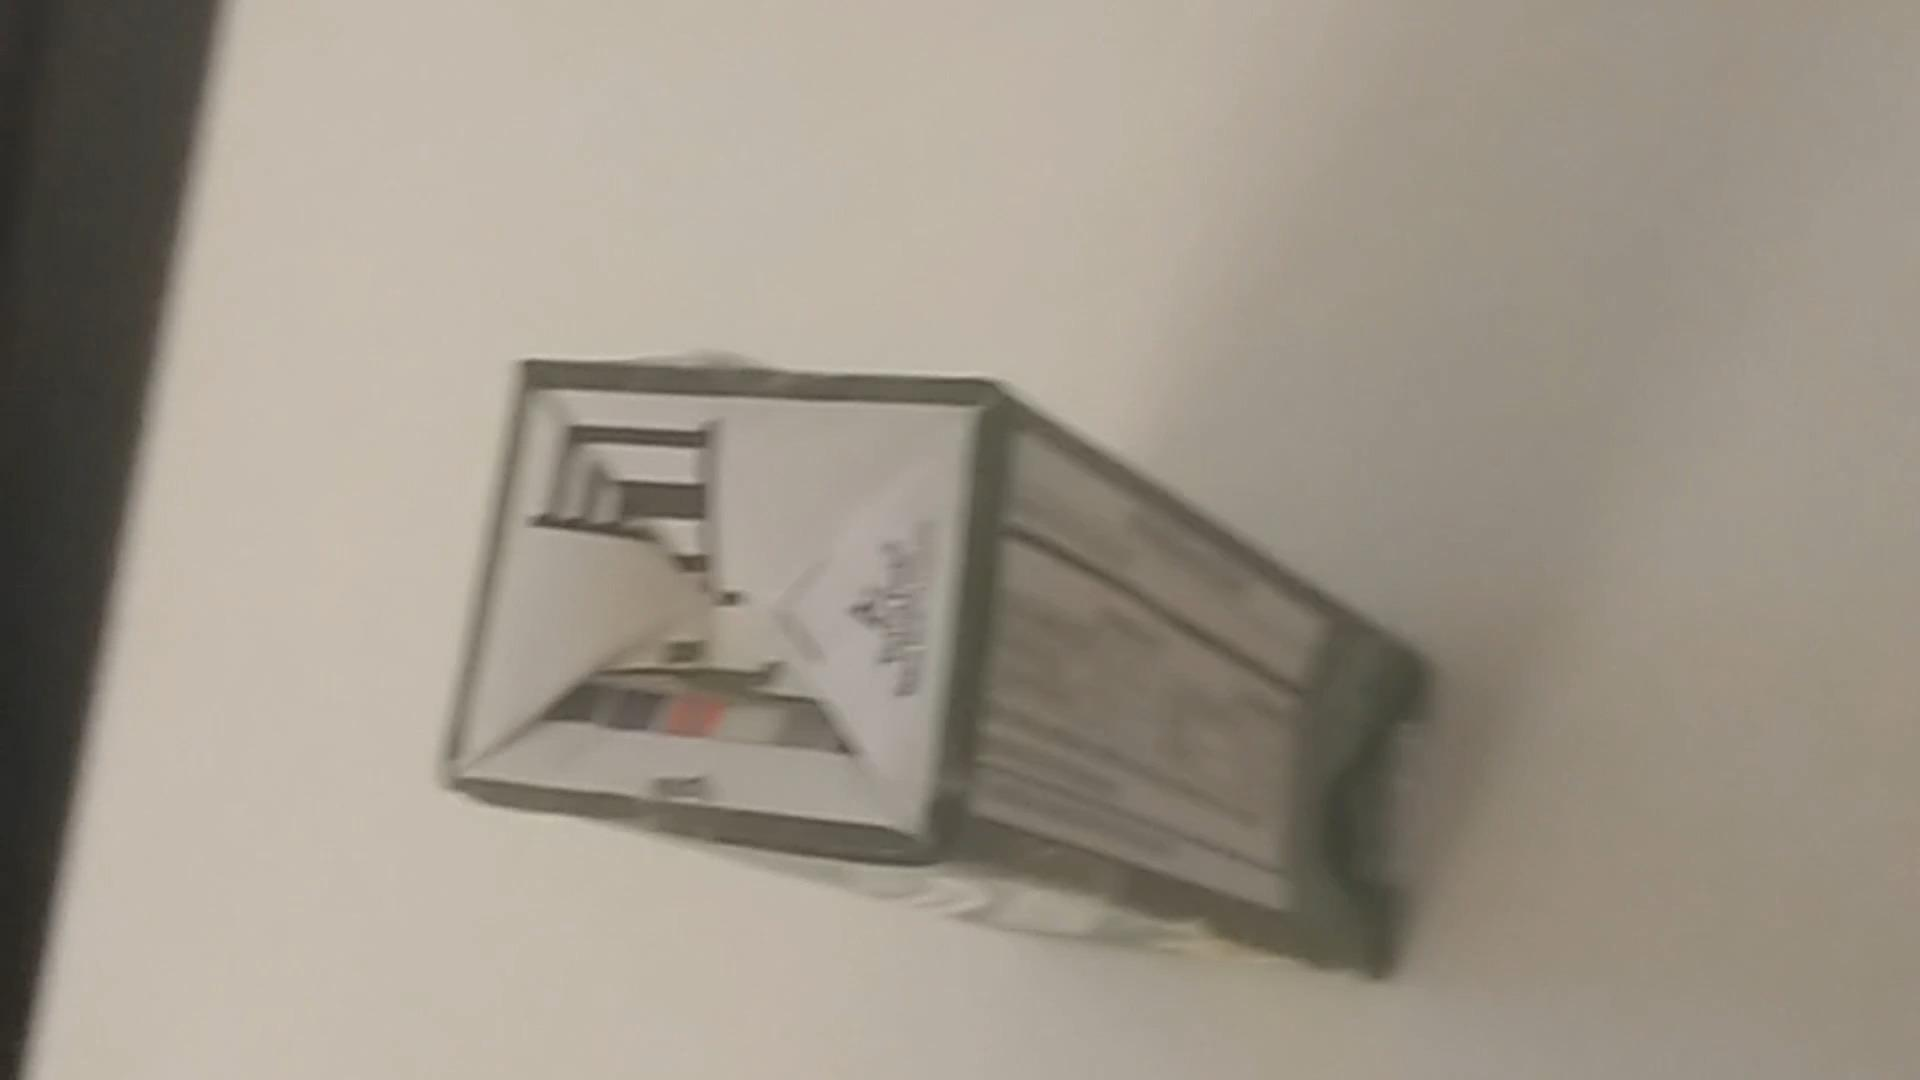coco: (447, 352, 1429, 988)
